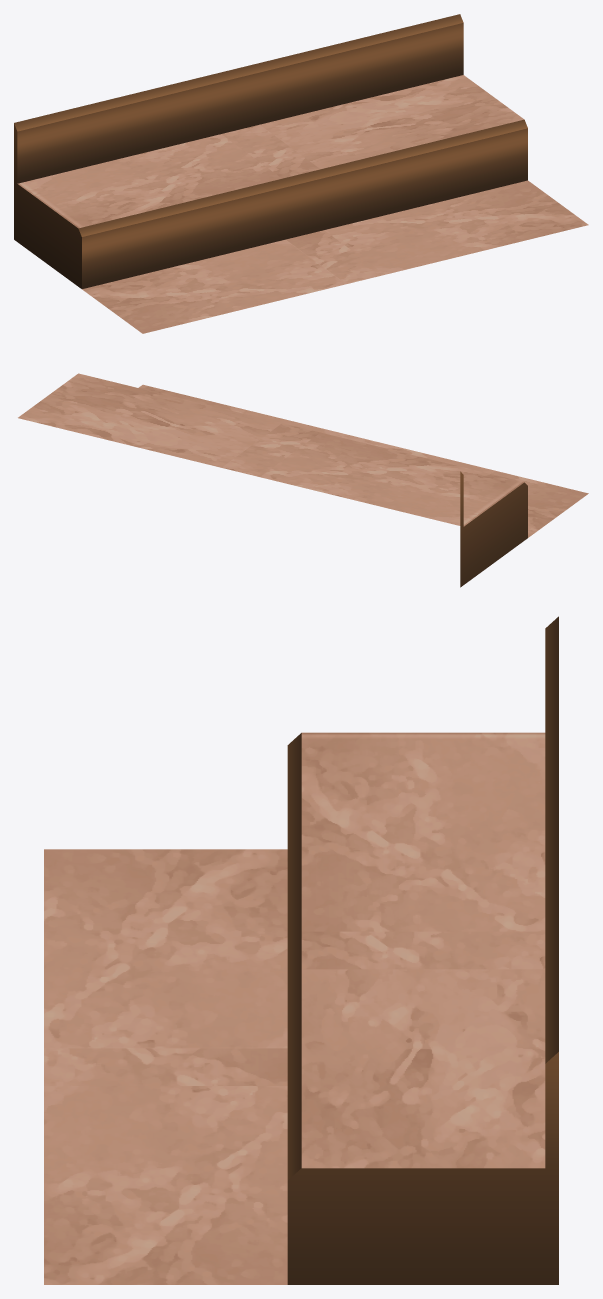
File: CI_096_097_098_099_stairs.glb
3 views of the same model, one above another, from view 1: azimuth 30°, elevation 25°; view 2: azimuth 150°, elevation 25°; view 3: azimuth 270°, elevation 25° (orthographic). The views are drawn at different scales.
Parts seen in each view (by area): view 1: stairs; view 2: stairs; view 3: stairs.
Boxes of the visible parts, x1,y1,x2,y2 form: stairs: [14, 14, 588, 333]; stairs: [18, 373, 588, 587]; stairs: [44, 616, 558, 1284].
Size of the model in its own units: 1.5 by 0.375 by 0.75.
Materials: 1 (1 with a texture image).
